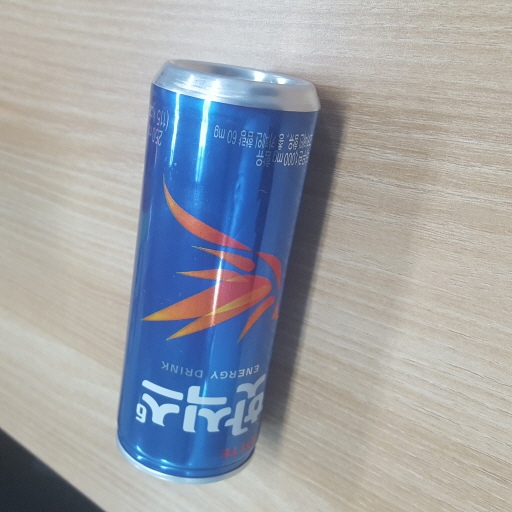Metal_0: (114, 57, 324, 489)
